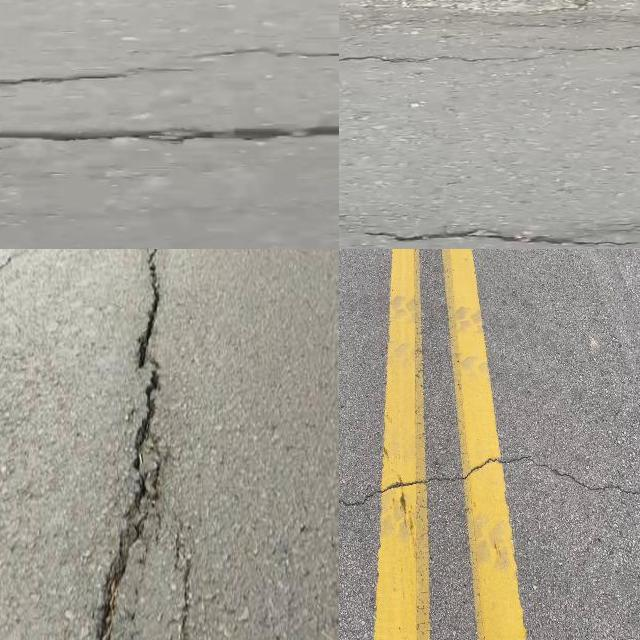Melintang: (339, 444, 640, 522), (0, 35, 339, 94), (339, 206, 640, 249), (0, 114, 339, 152)
Memanjang: (77, 249, 178, 640), (169, 540, 206, 640)
